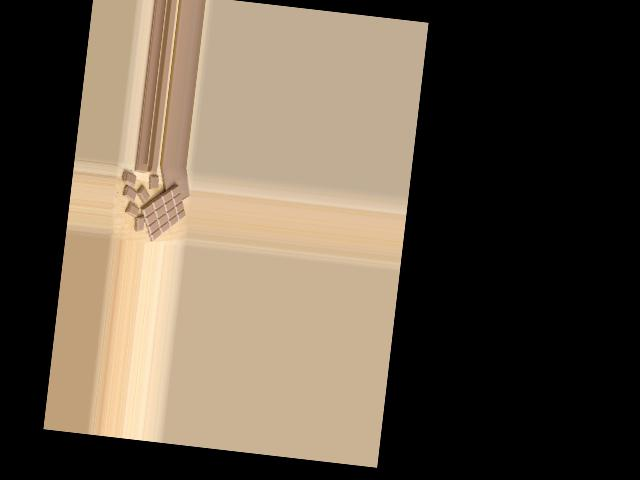chocolate: (135, 180, 189, 243)
